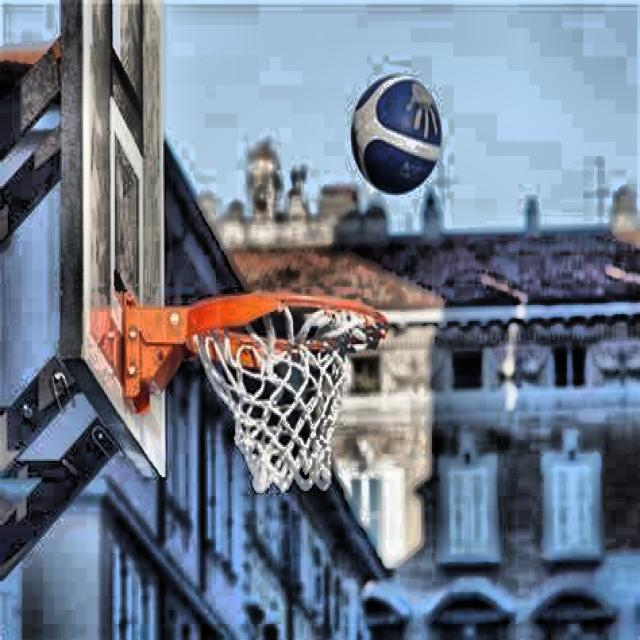rim: (190, 296, 392, 488)
